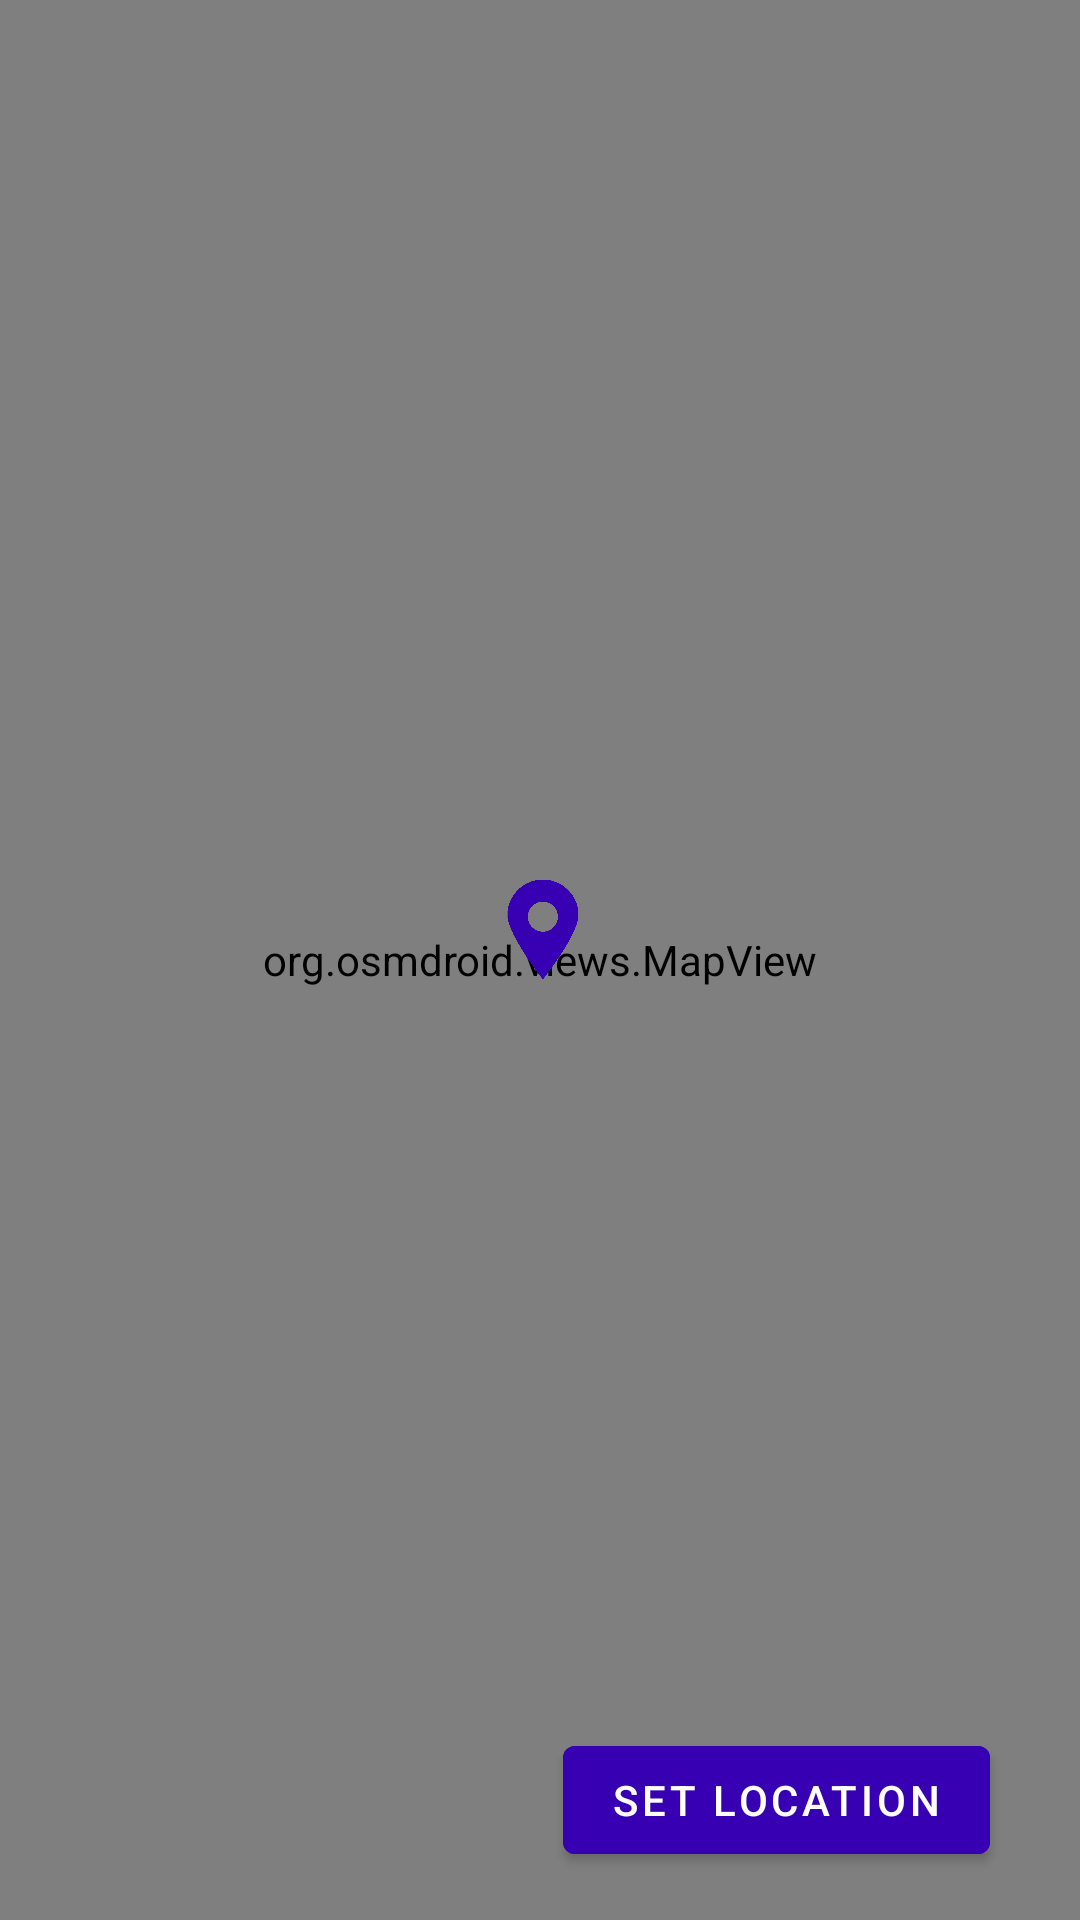

Point at icon controls on the screen. Image size 1080 x 1920, points as [x,y].
pinpoint bright: [535,929]
